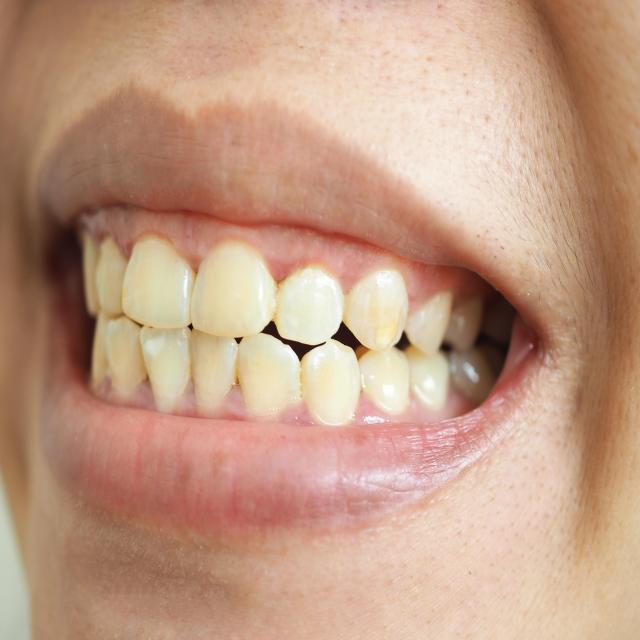Tooth: (191, 241, 276, 338), (122, 236, 196, 328), (342, 269, 409, 352), (274, 266, 344, 345), (301, 339, 361, 425), (238, 334, 300, 412), (141, 326, 191, 409), (191, 328, 238, 411), (356, 346, 410, 413), (404, 291, 454, 357), (106, 315, 147, 392), (404, 344, 450, 409), (96, 239, 126, 316)
